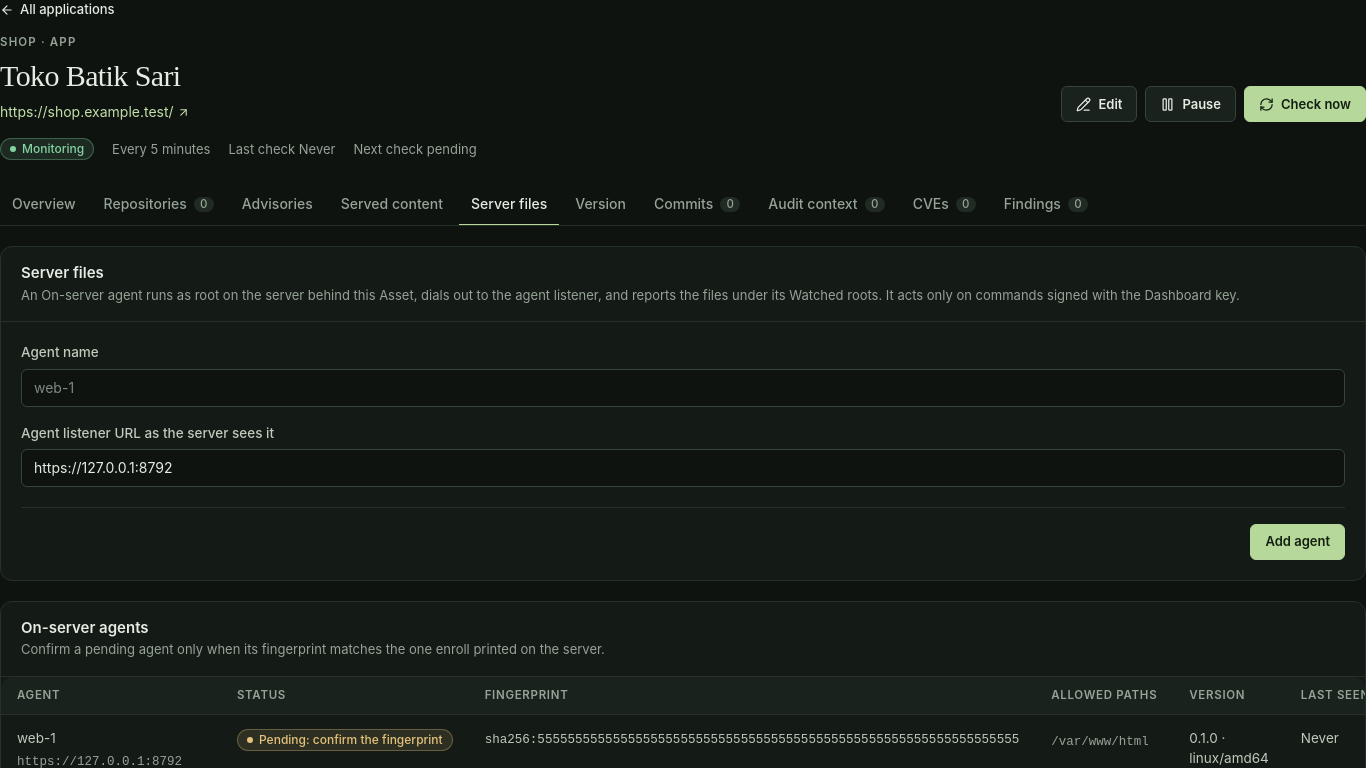
Test: adds an agent and shows the enroll command and code only once
Type "web-2" into the field labelled "Agent name" at (683, 388), box [21,368,1345,406]
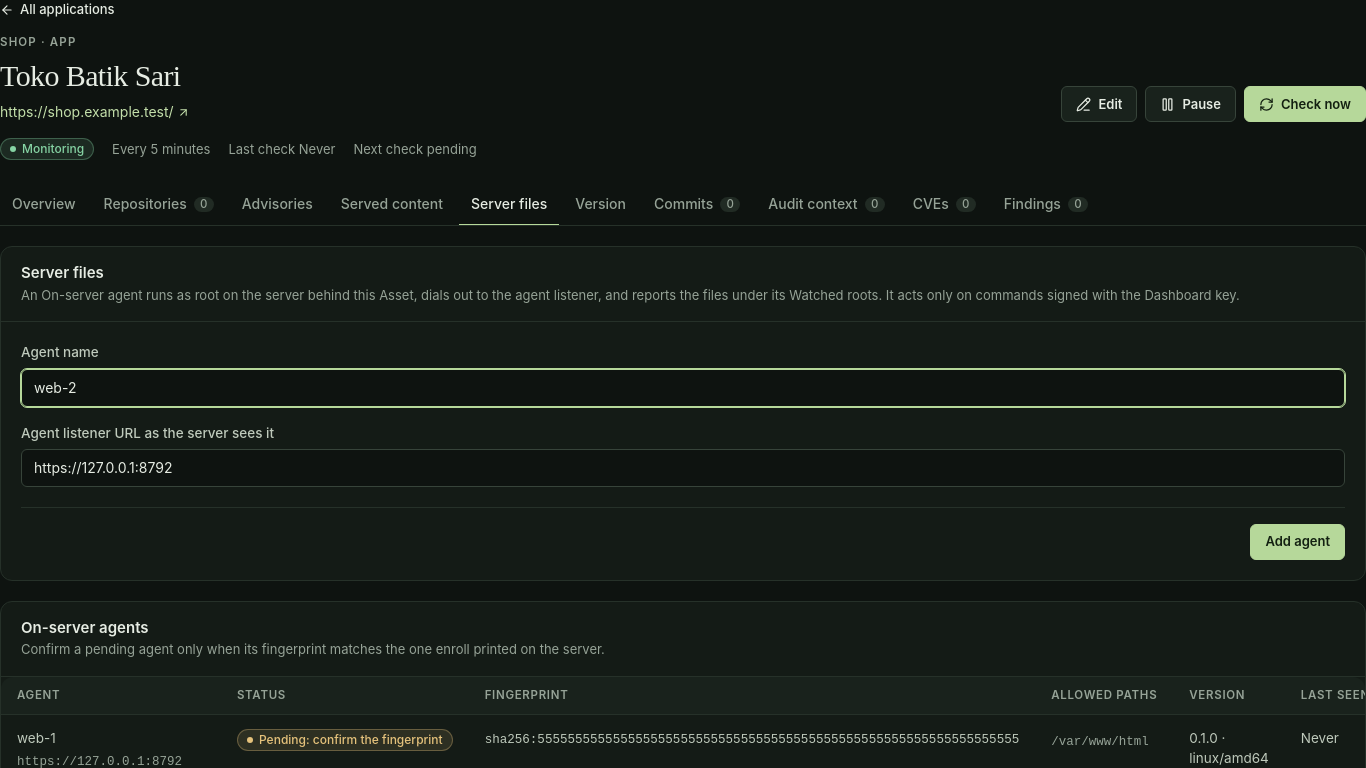
Expected: the field labelled "Agent listener URL as the server sees it" holds "https://127.0.0.1:8792", [21,449,1345,487]
Click the button "Add agent" at (1298, 542), box [1250,524,1345,560]
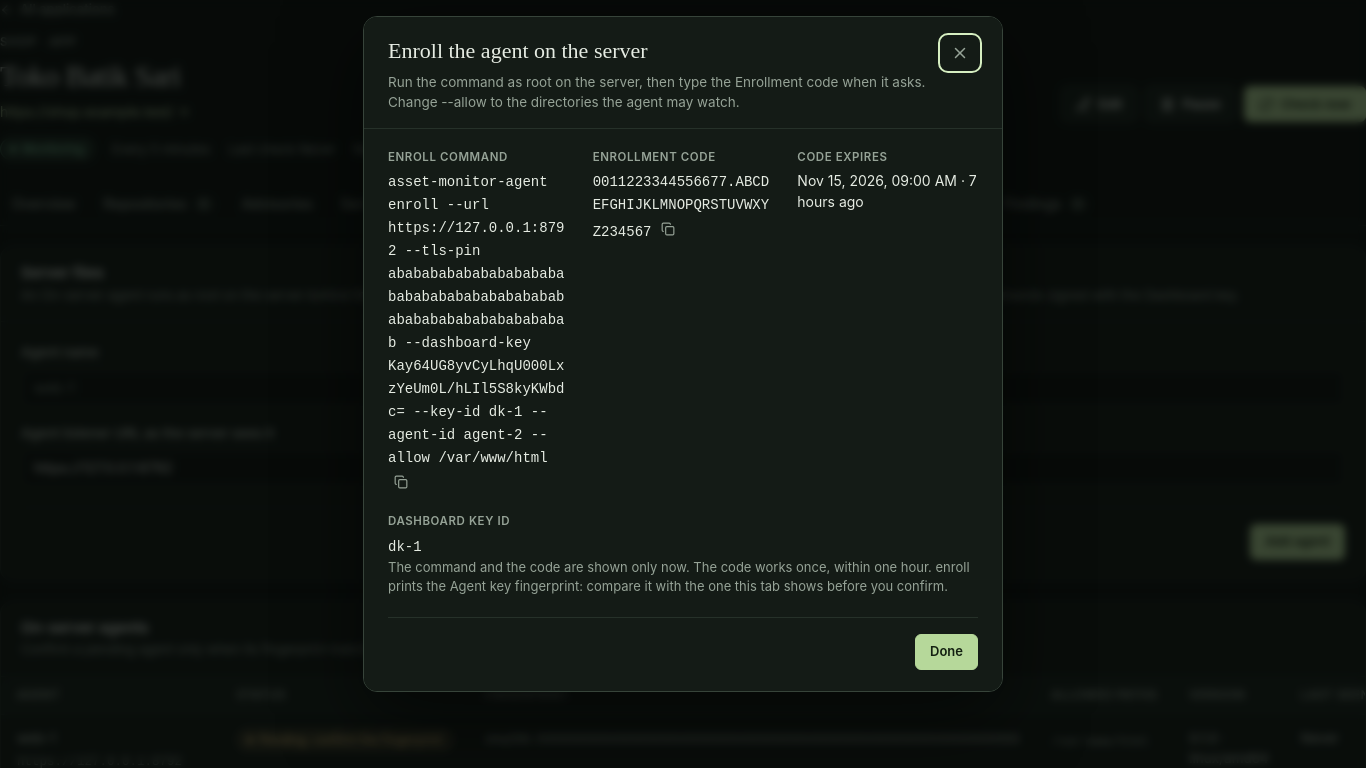
Now the dialog shows "0011223344556677.ABCDEFGHIJKLMNOPQRSTUVWXYZ234567", box [593,174,769,240]
Click the button "Done" at (946, 652), box [915,634,978,670]
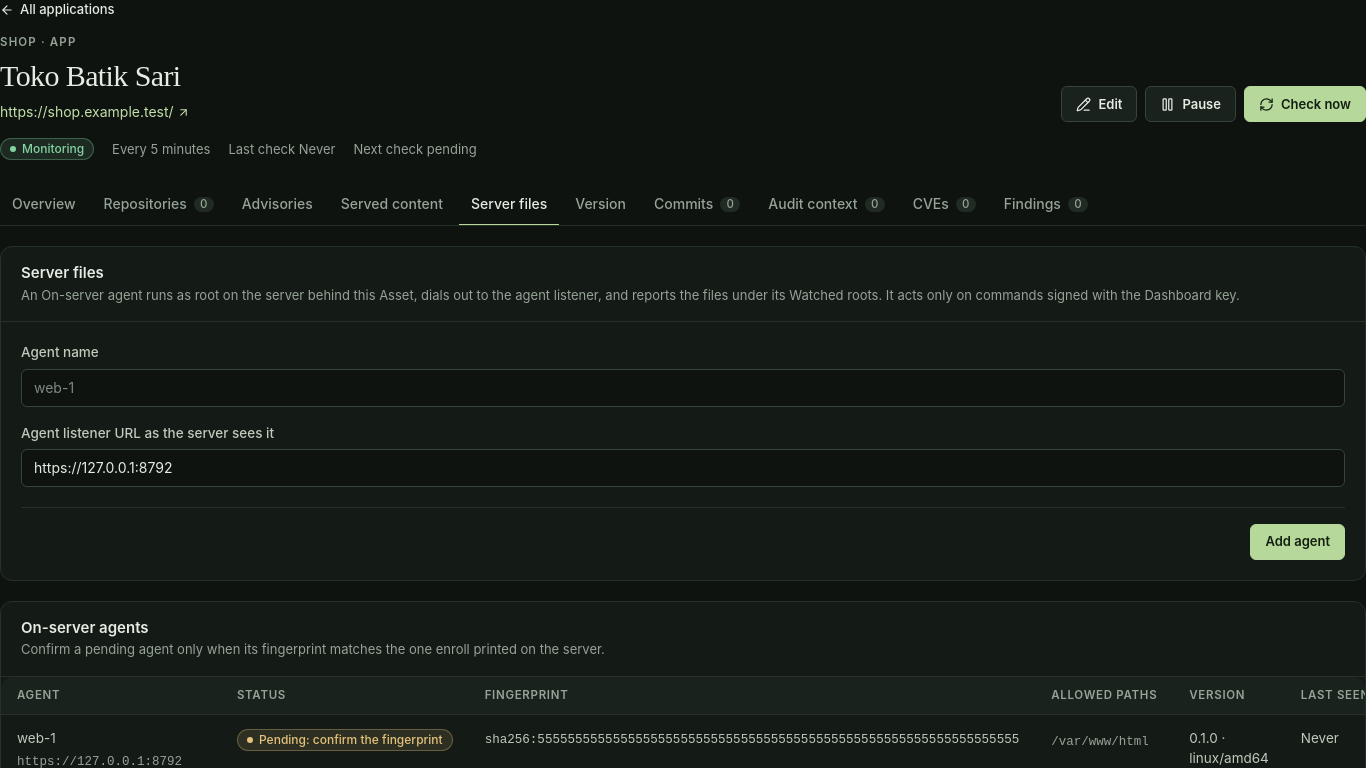
Now the text "ABCDEFGHIJKLMNOPQRSTUVWXYZ234567" is gone
